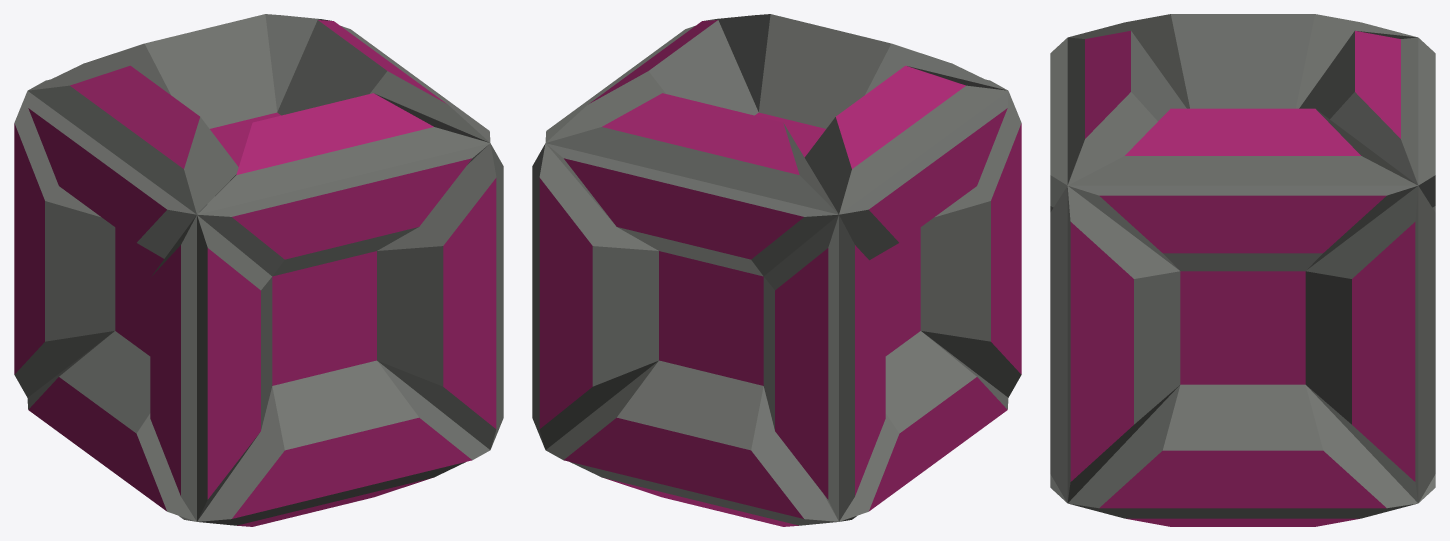
File: VenumbraEssence.fbx
3 views of the same model, side by side, from view 1: azimuth 30°, elevation 25°; view 2: azimuth 150°, elevation 25°; view 3: azimuth 270°, elevation 25° (orthographic). The views are drawn at different scales.
Visible parts, largest first — view 1: Cube; view 2: Cube; view 3: Cube.
Part boxes in pixels (left/top/right/bottom): Cube: left=14, top=14, right=503, bottom=526; Cube: left=532, top=14, right=1021, bottom=526; Cube: left=1050, top=14, right=1435, bottom=526.
Size of the model in its own units: 177 by 212 by 177.
